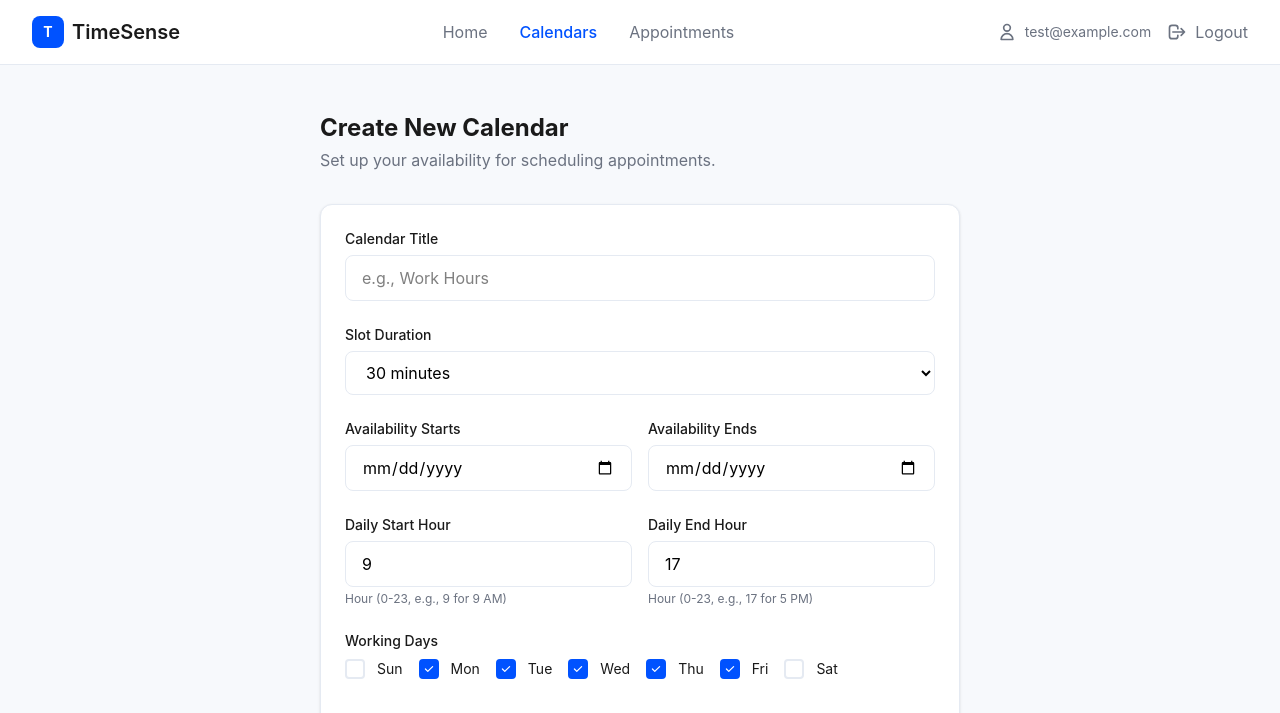
New Calendar Page › Authenticated User › Form Validation › should show error when stop time is before start time
Replace the text in the number field with test id "start-time-input" with "17" at point(489, 564), box x1=345 y1=541 x2=632 y2=587
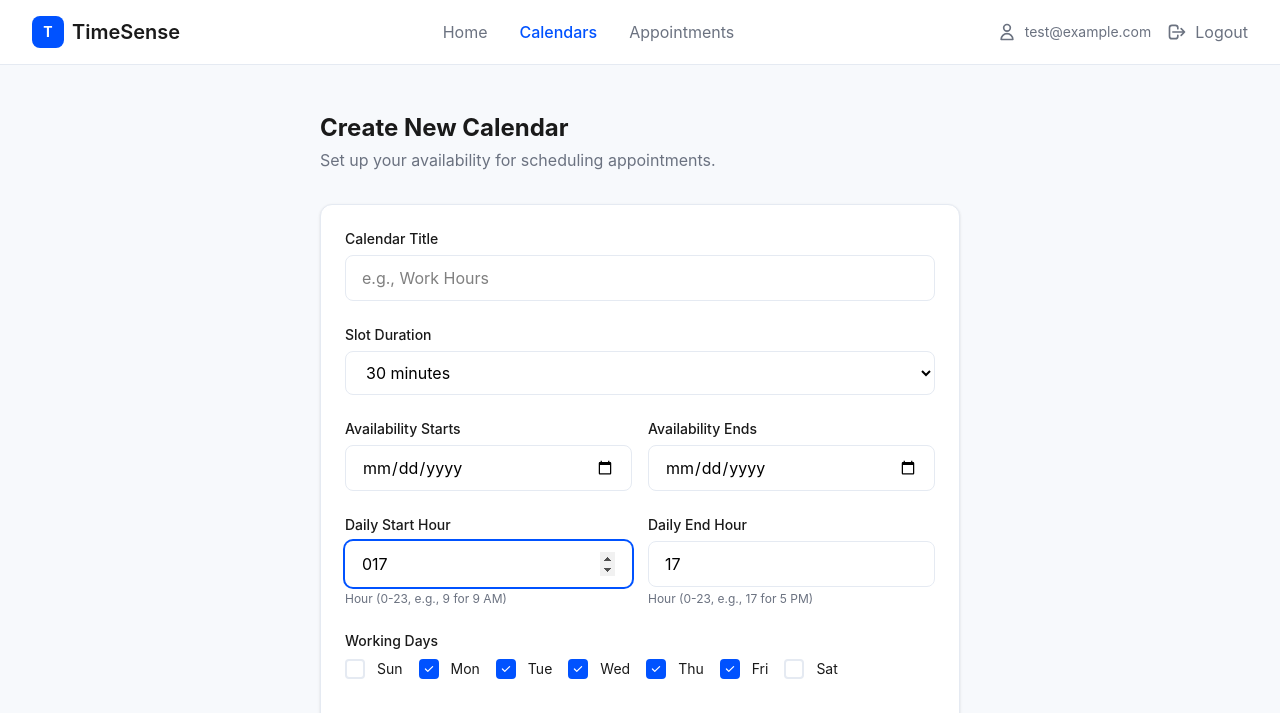
Replace the text in the number field with test id "stop-time-input" with "9" at point(792, 564), box x1=648 y1=541 x2=935 y2=587
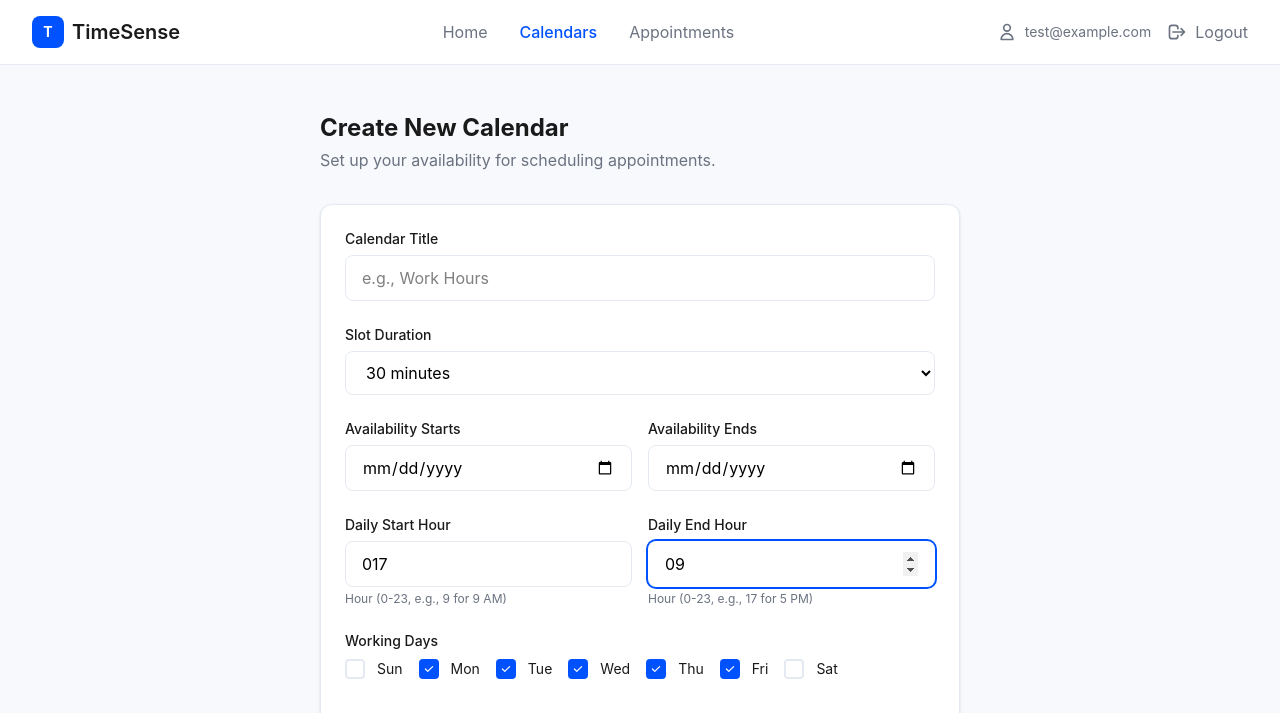
Scroll
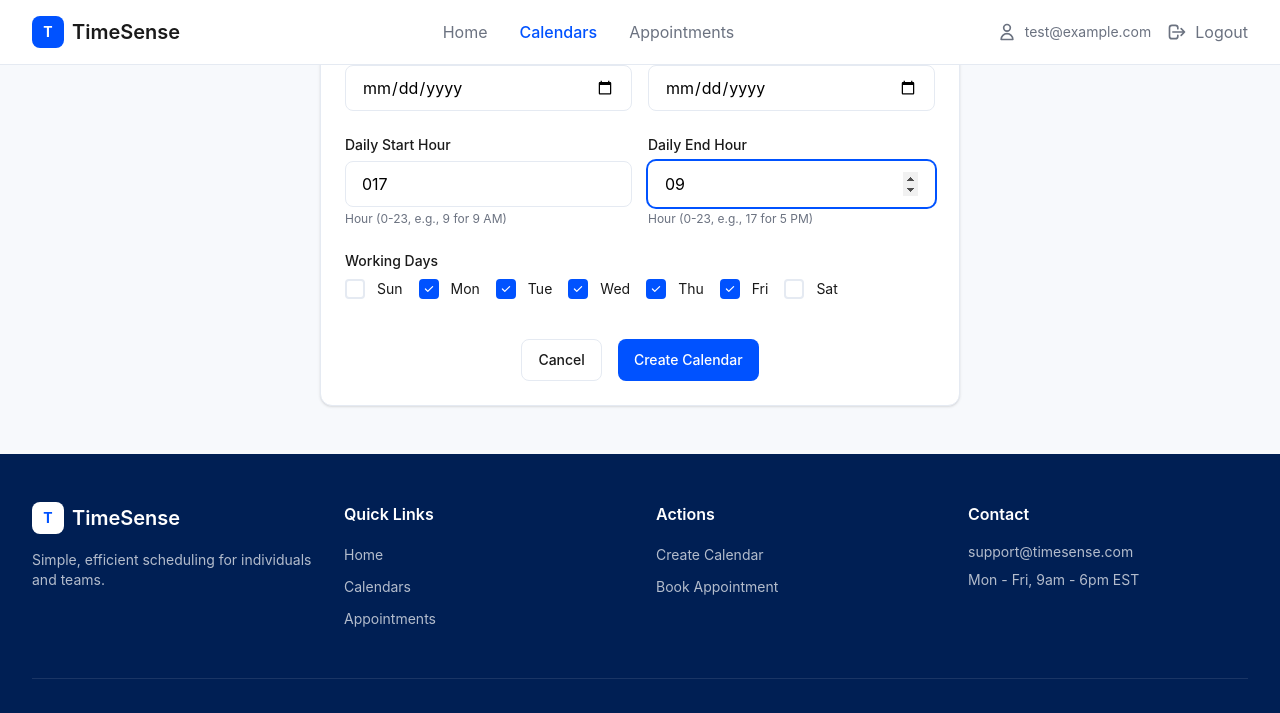
Click the button with test id "create-calendar-button" at point(689, 360), box x1=618 y1=339 x2=759 y2=381
(page scrolled)
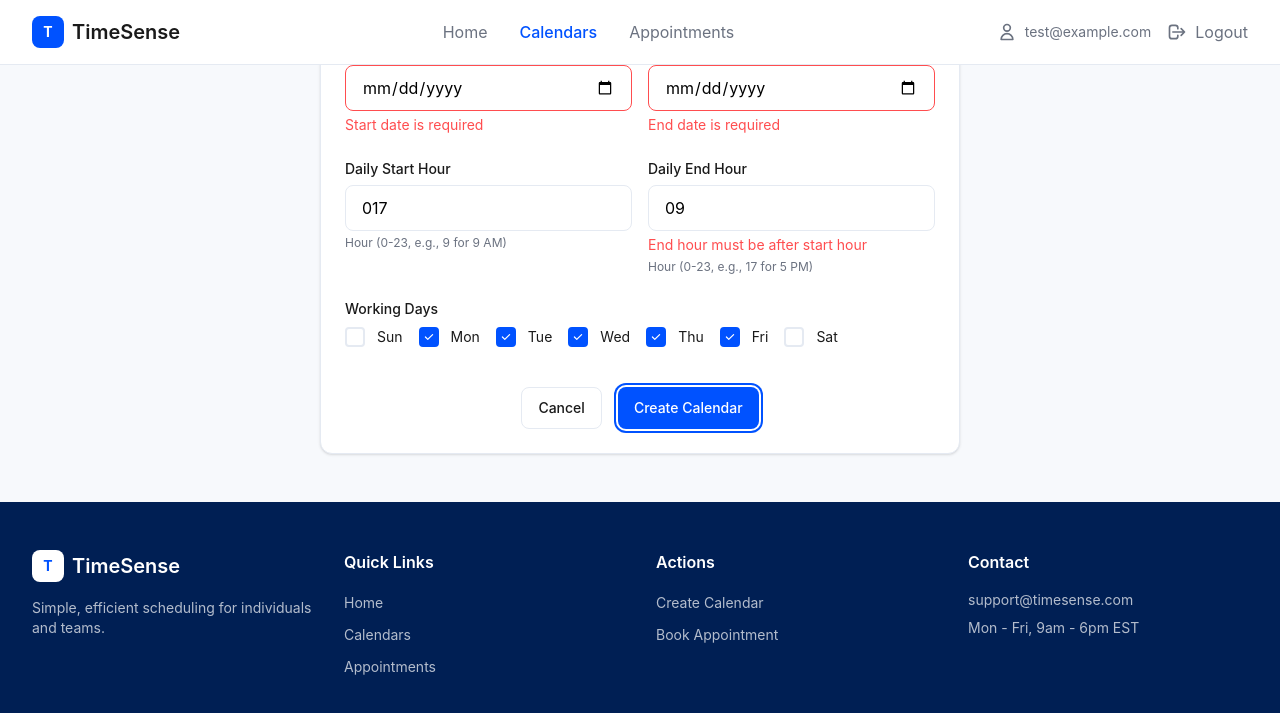
Result: the text with test id "stopTime-error" reads "End hour must be after start hour" at x1=648 y1=236 x2=867 y2=253
